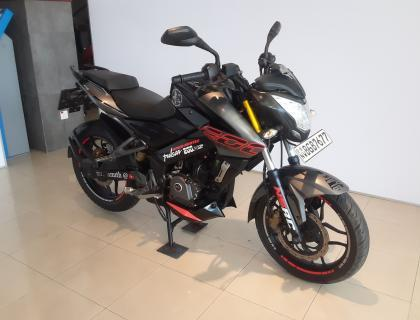motorbike: (58, 20, 371, 284)
